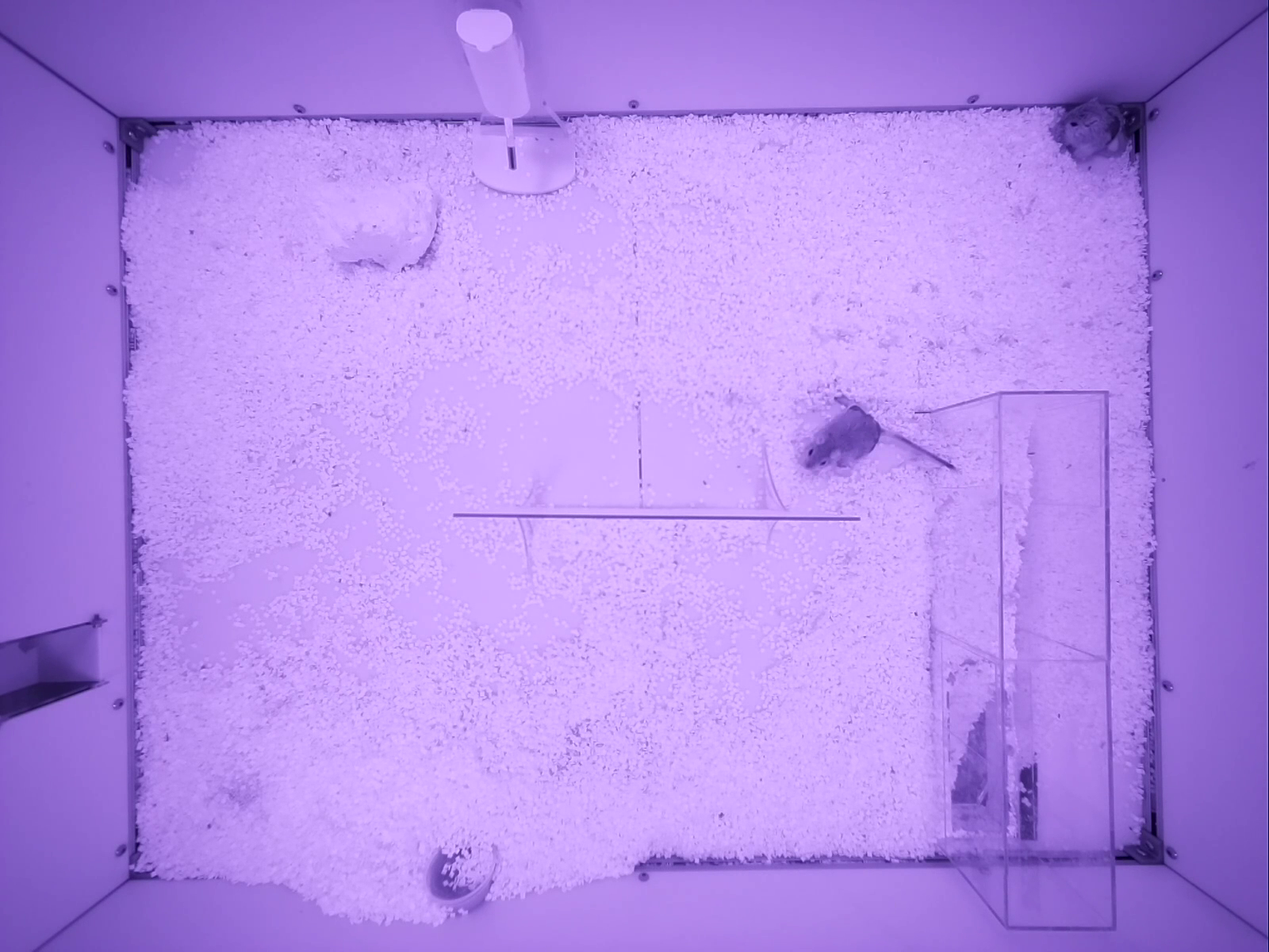adult_back: (803, 396, 955, 467), (1051, 98, 1131, 162)
